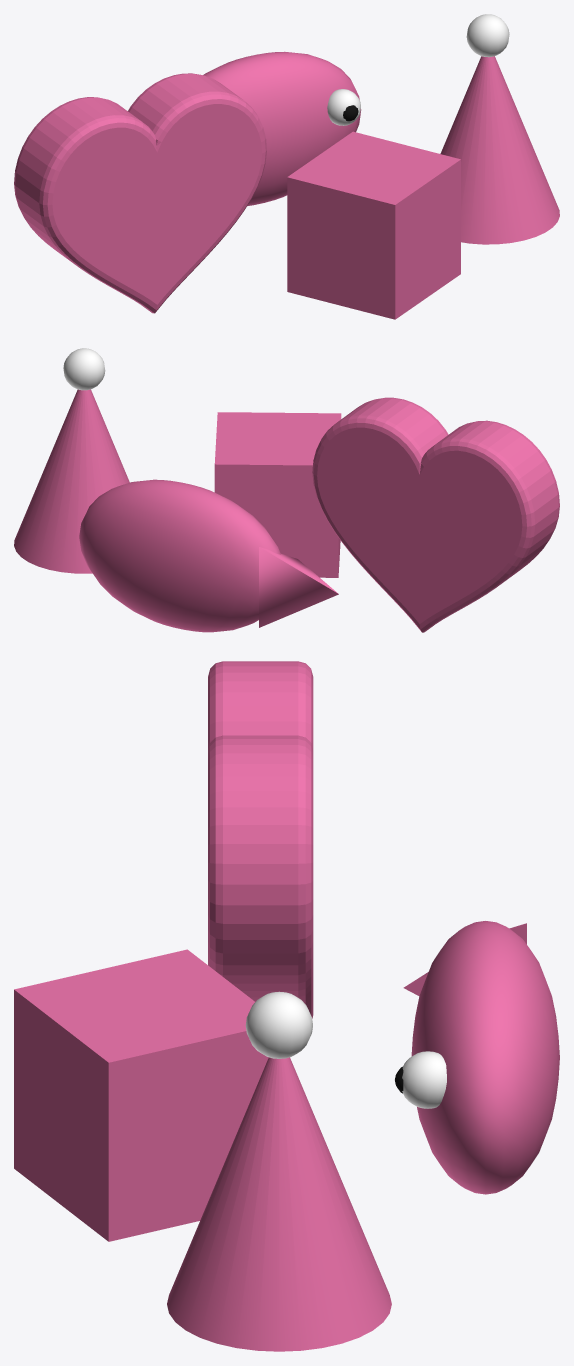
The model's file is pink.glb.
3 renders of one model, top to bottom at view 1: azimuth 30°, elevation 25°; view 2: azimuth 150°, elevation 25°; view 3: azimuth 270°, elevation 25°, orthographic. The views are drawn at different scales.
Visible parts, largest first — view 1: heart, cube, hat, fish, object 3; view 2: heart, fish, cube, hat; view 3: cube, hat, heart, fish, object 3.
Boxes of the visible parts, box(x1,y1,x2,y2) form: heart: box(14, 73, 266, 313); cube: box(287, 131, 460, 319); hat: box(440, 14, 559, 244); fish: box(203, 51, 361, 205); object 3: box(327, 89, 360, 125); heart: box(312, 397, 559, 632); fish: box(79, 479, 338, 632); cube: box(214, 412, 341, 577); hat: box(14, 348, 129, 573); cube: box(14, 949, 268, 1241); hat: box(167, 991, 391, 1351); heart: box(208, 661, 313, 1018); fish: box(403, 921, 559, 1194); object 3: box(402, 1051, 446, 1108).
Bounding box in the file's own units: 2.54 × 0.9586 × 1.46.
